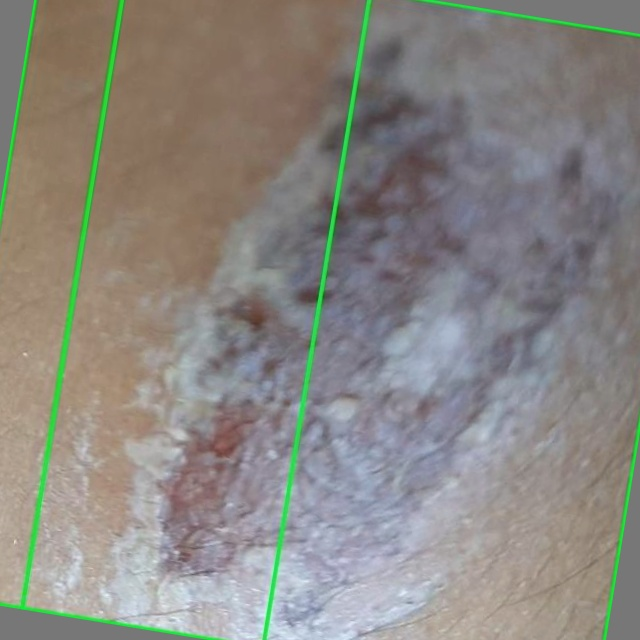Atopic Dermatitis: (22, 0, 639, 639), (0, 0, 369, 639)
